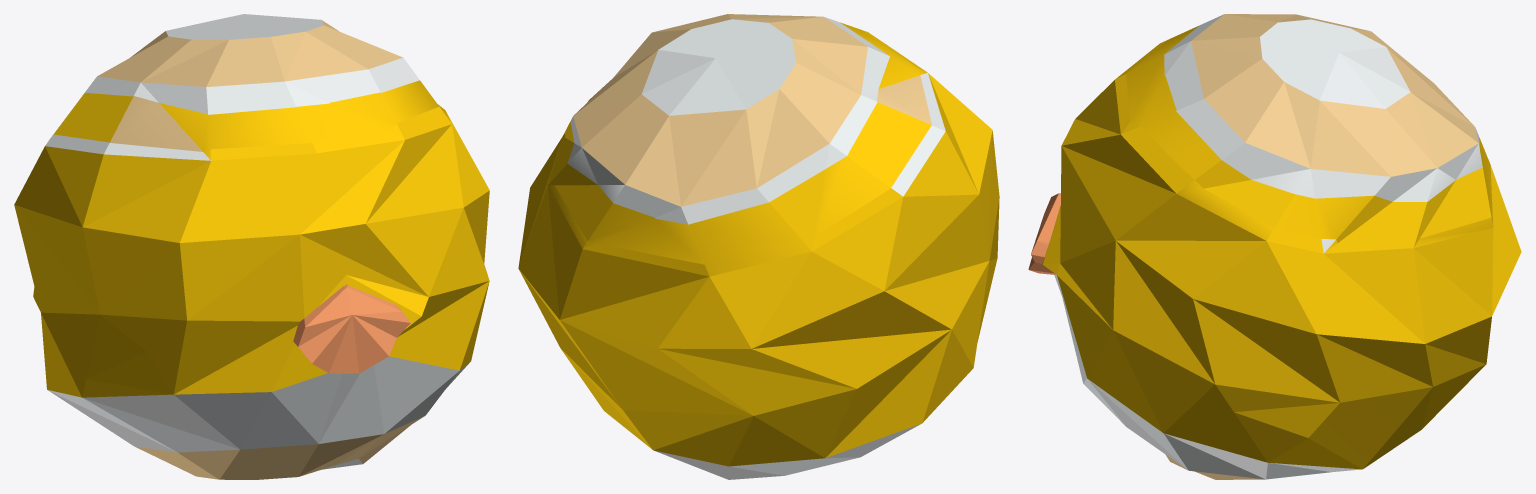
Rendered from jupiter.gltf.
The picture shows the model from 3 angles, left to right: view 1: azimuth 30°, elevation 25°; view 2: azimuth 150°, elevation 25°; view 3: azimuth 270°, elevation 25°; orthographic projection.
Visible parts, largest first — view 1: model.049, model.169; view 2: model.049; view 3: model.049, model.169.
Part boxes in pixels (box(x1,y1,x2,y2)): model.049: box(14, 14, 489, 479); model.169: box(293, 284, 410, 373); model.049: box(518, 14, 999, 479); model.049: box(1041, 14, 1521, 479); model.169: box(1028, 193, 1060, 274).
Size of the model in its own units: 10.39 by 10.39 by 10.69.
